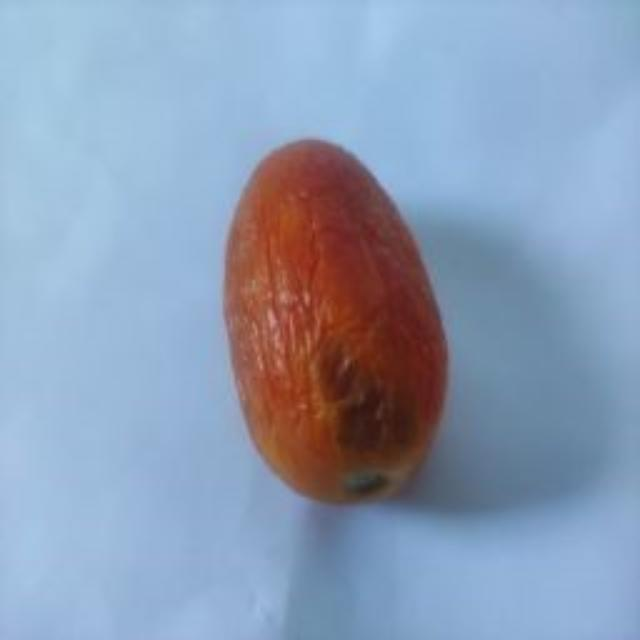defect: (222, 134, 452, 508)
